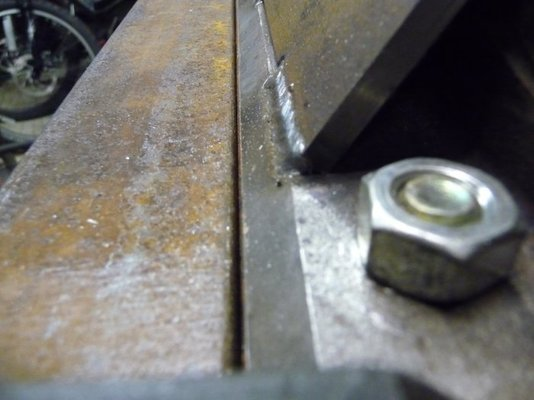bolt_b: (356, 154, 529, 309)
